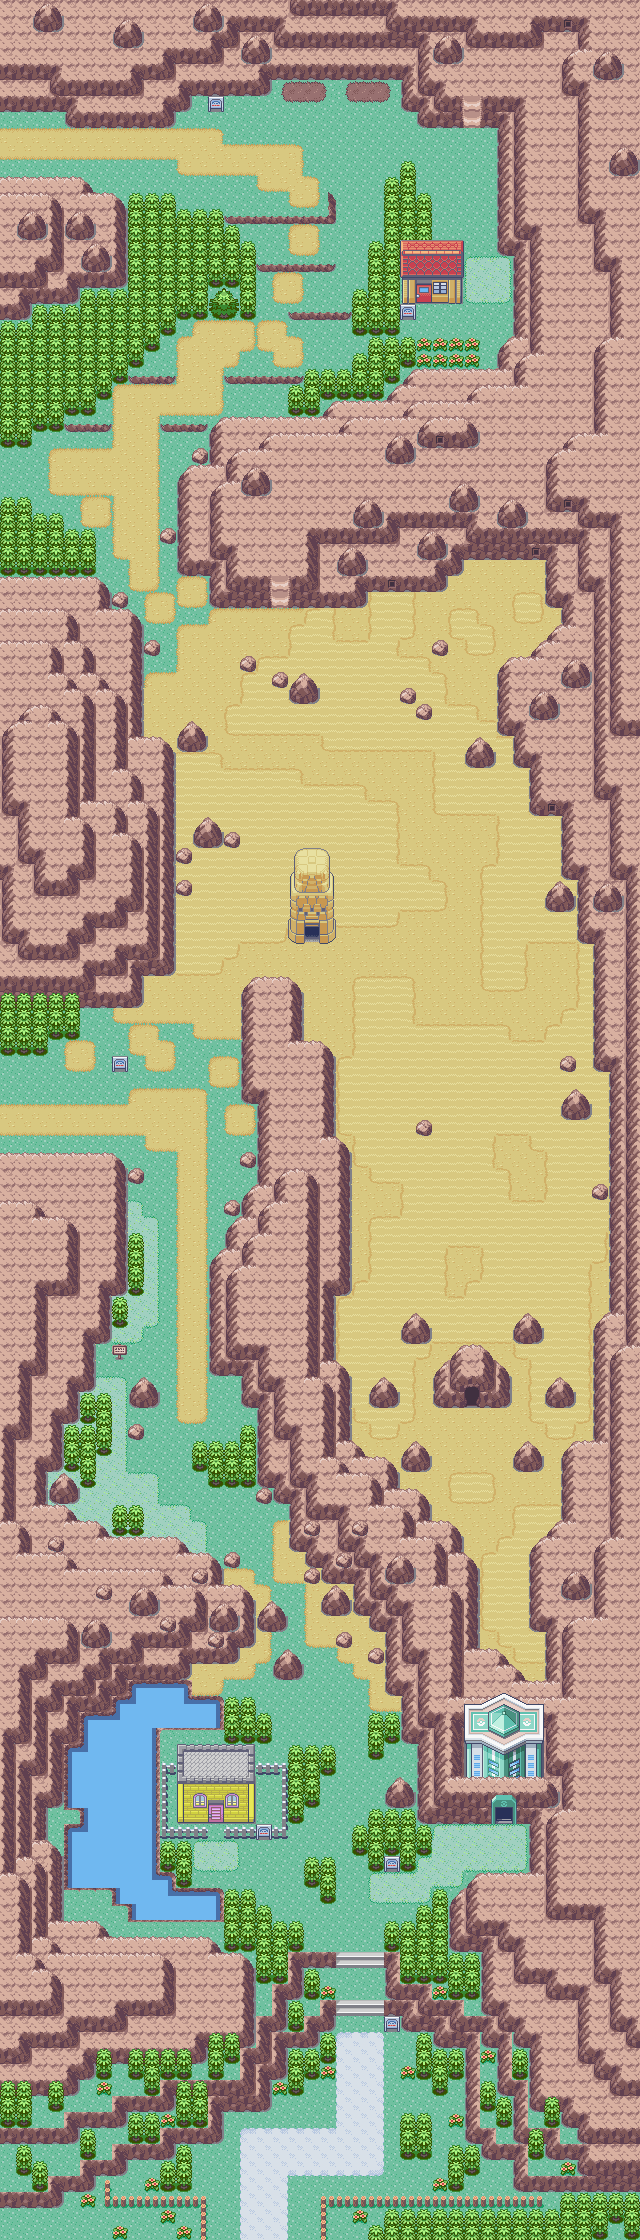cave: (429, 1343, 514, 1414), (463, 1770, 549, 1829)
misc: (286, 844, 339, 946)
normal_house: (174, 1741, 259, 1824), (399, 239, 467, 307)
